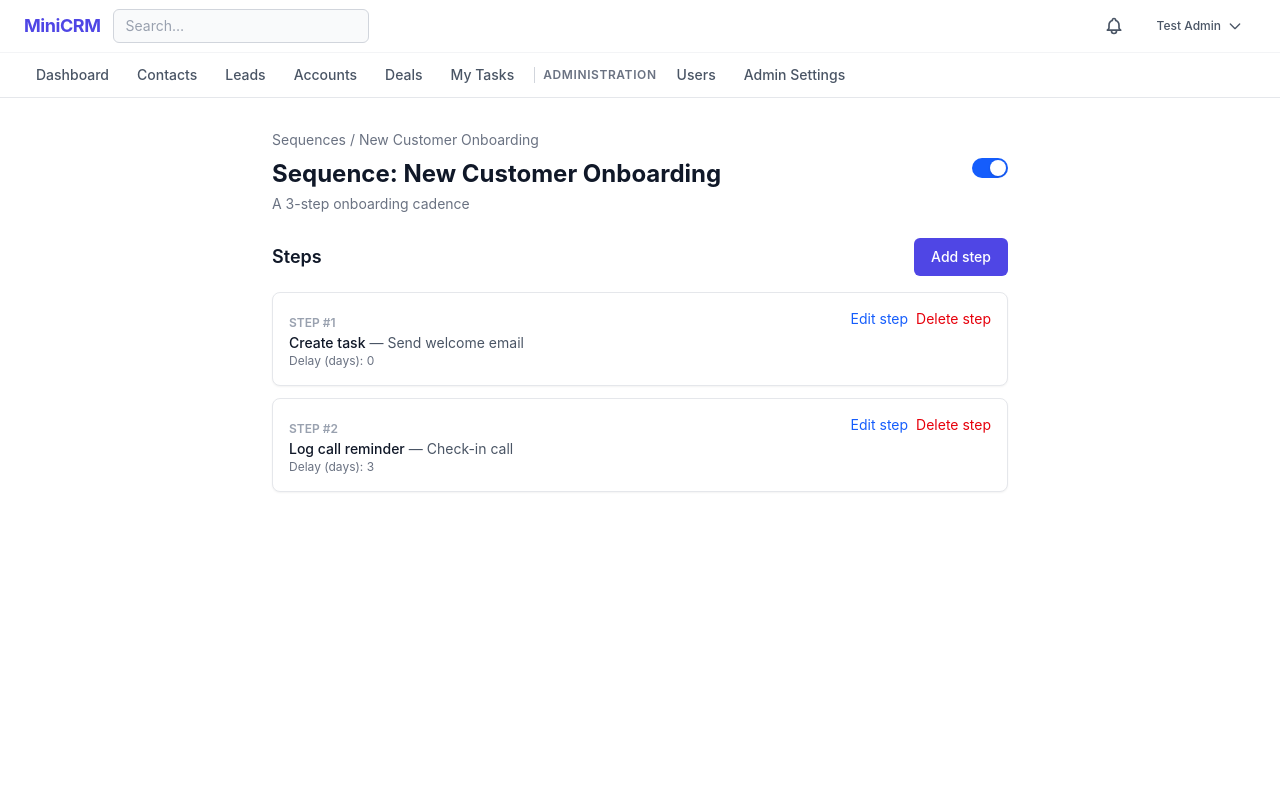
Test: SequenceDetailPage › hides the add step form when Cancel is clicked
Click the button with test id "add-step-button": point(961, 257) left=914, top=238, right=1008, bottom=276
(page scrolled)
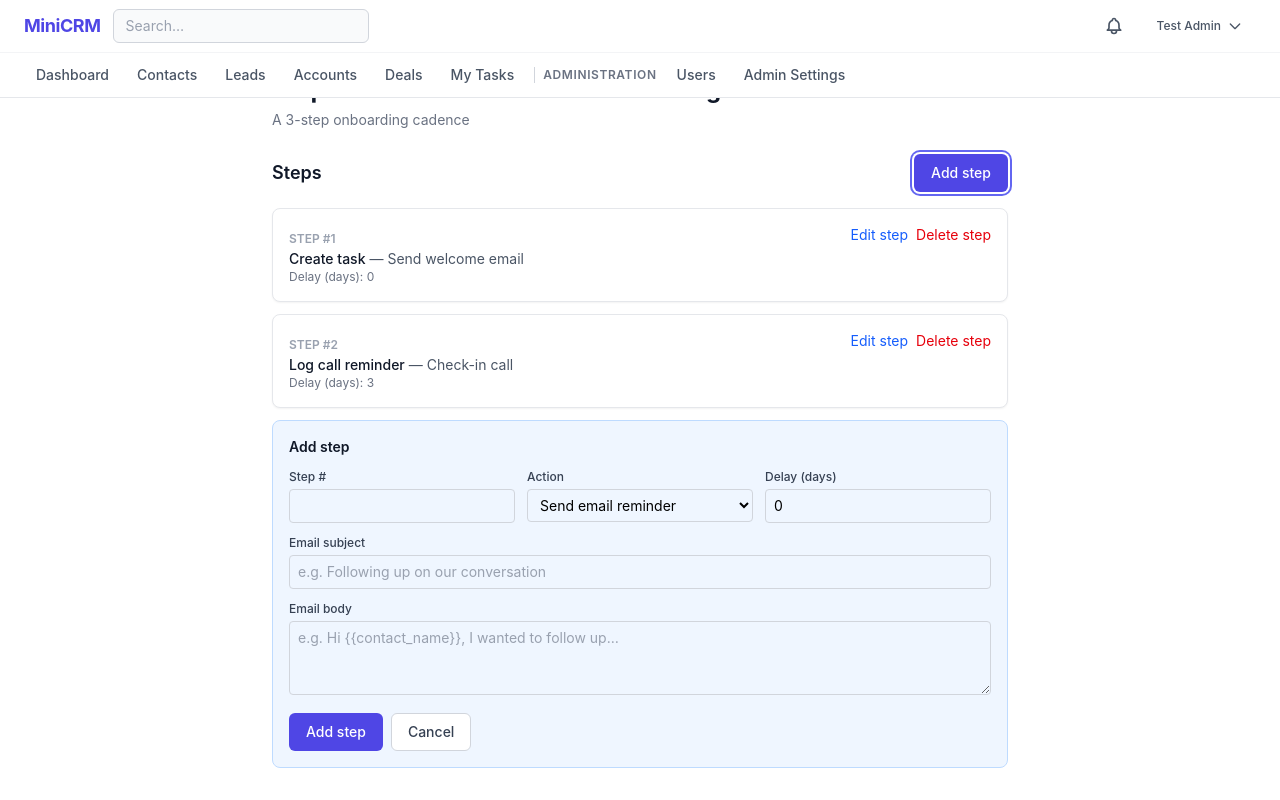
Expected: the form with test id "add-step-form" is shown, left=272, top=420, right=1008, bottom=768
Click the button with test id "add-step-cancel": point(431, 732) left=391, top=713, right=471, bottom=751
(page scrolled)
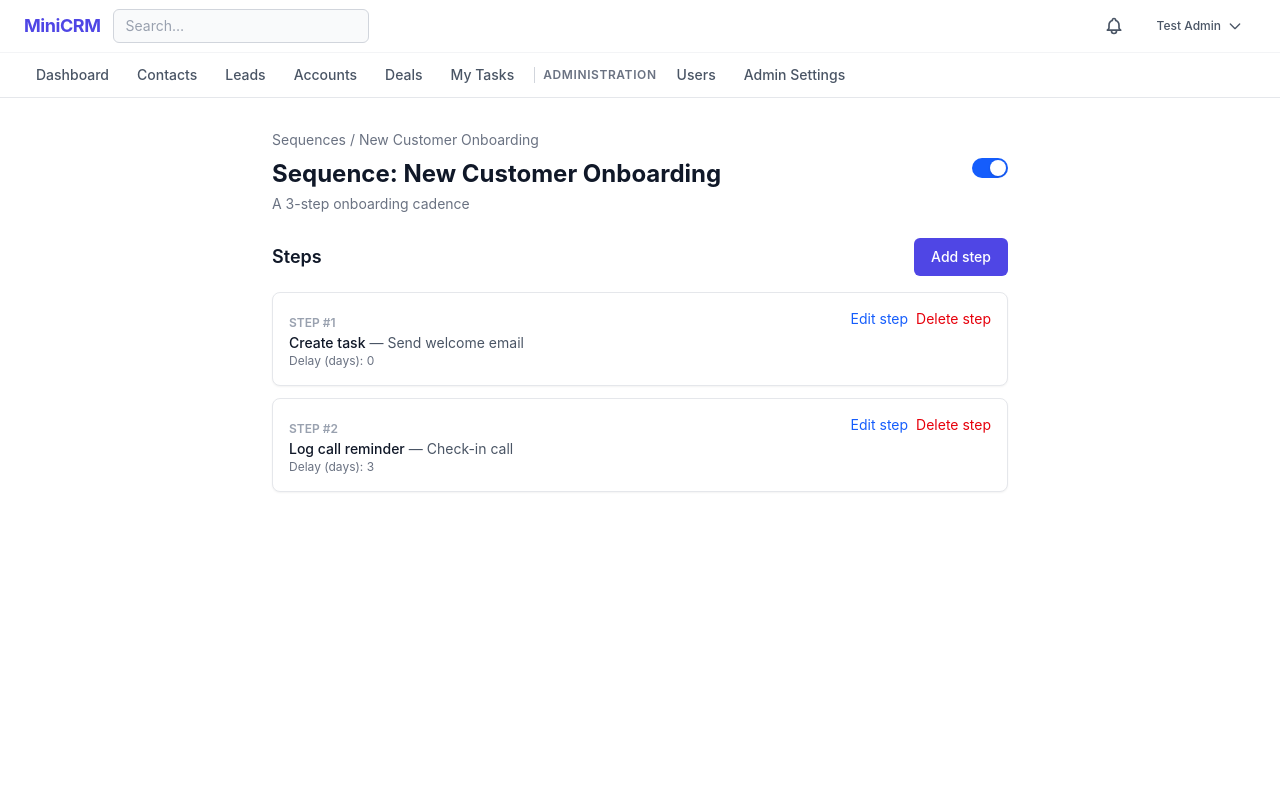
Expected: the form with test id "add-step-form" is gone
